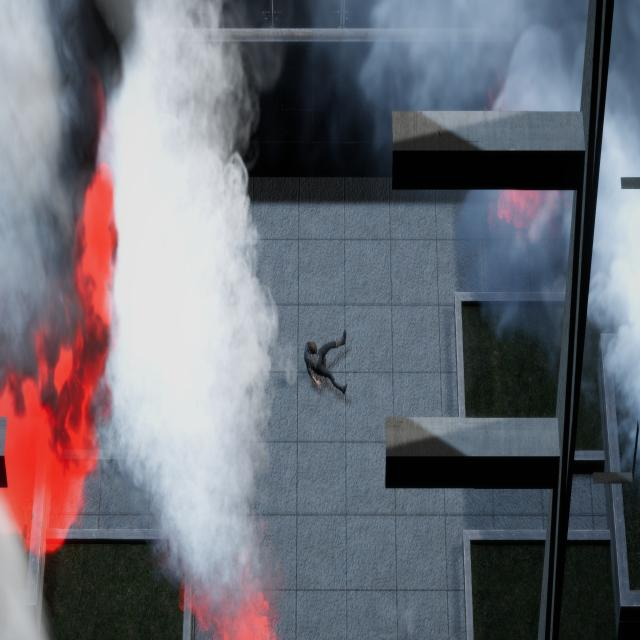Human: (292, 309, 358, 402)
